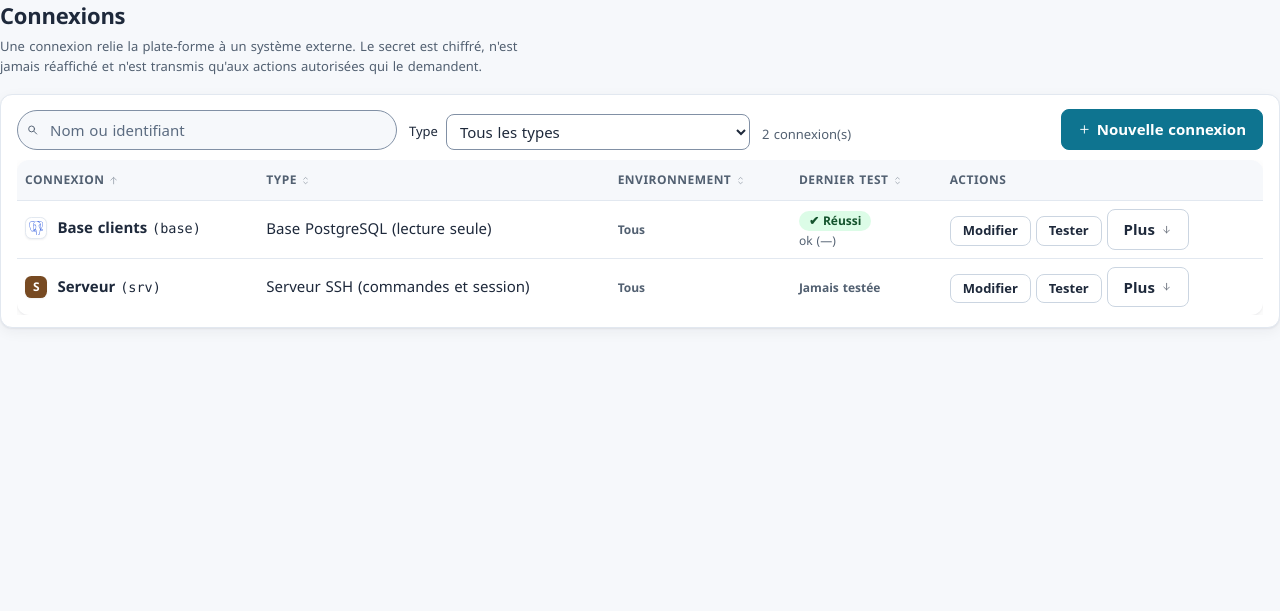
Test: Connexions : modification › for an SSH identity, the new secret is a multi-line field with the explicit instructions
Step 1. Click the button with aria-label "Modifier la connexion Serveur" → (990, 288), box [950, 274, 1031, 303]
(page scrolled)
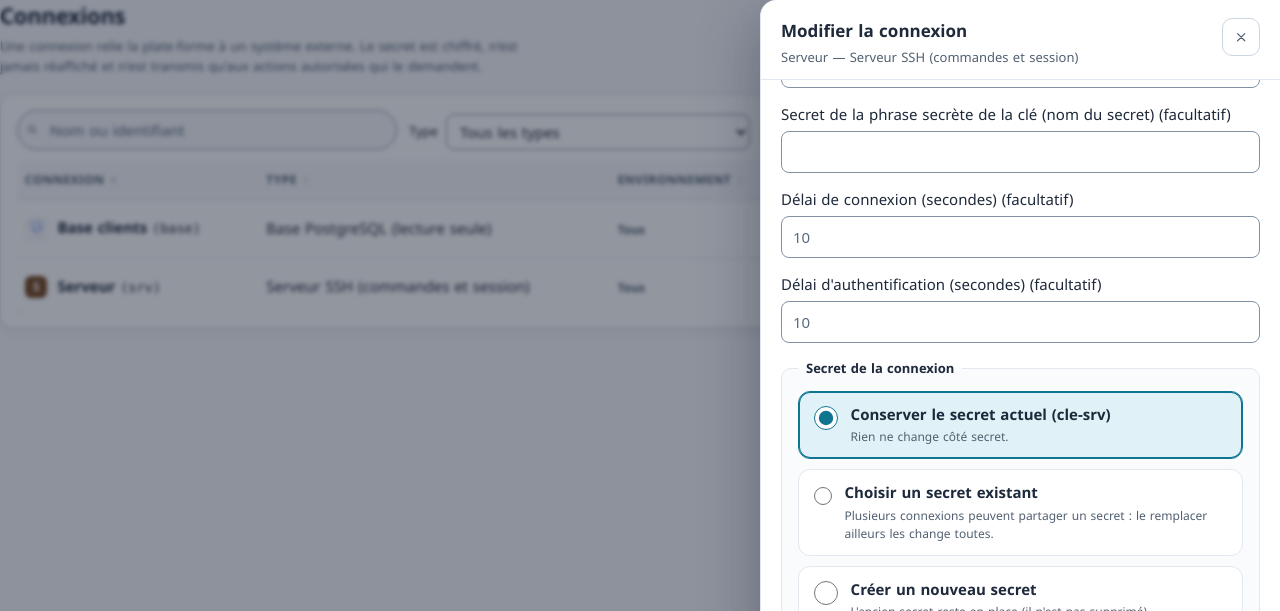
Step 2. Click the radio button labelled "Créer un nouveau secret" → (826, 593), box [814, 581, 838, 605]
(page scrolled)
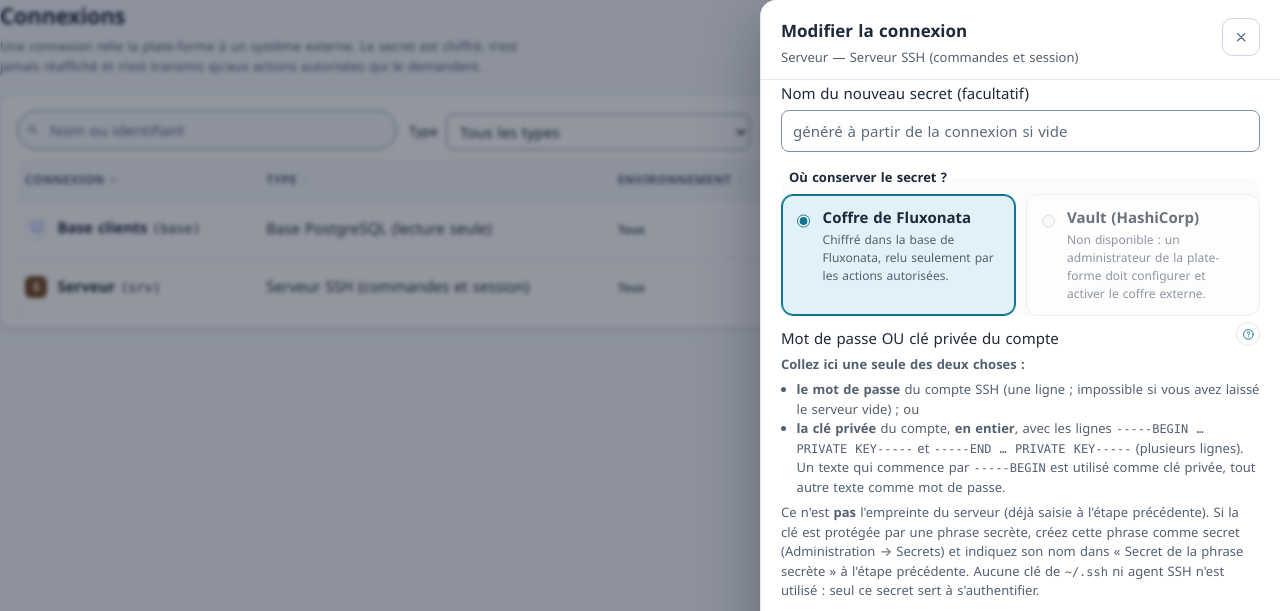
Now the list item that starts with "le mot de passe" is shown, box [797, 380, 1260, 418]
